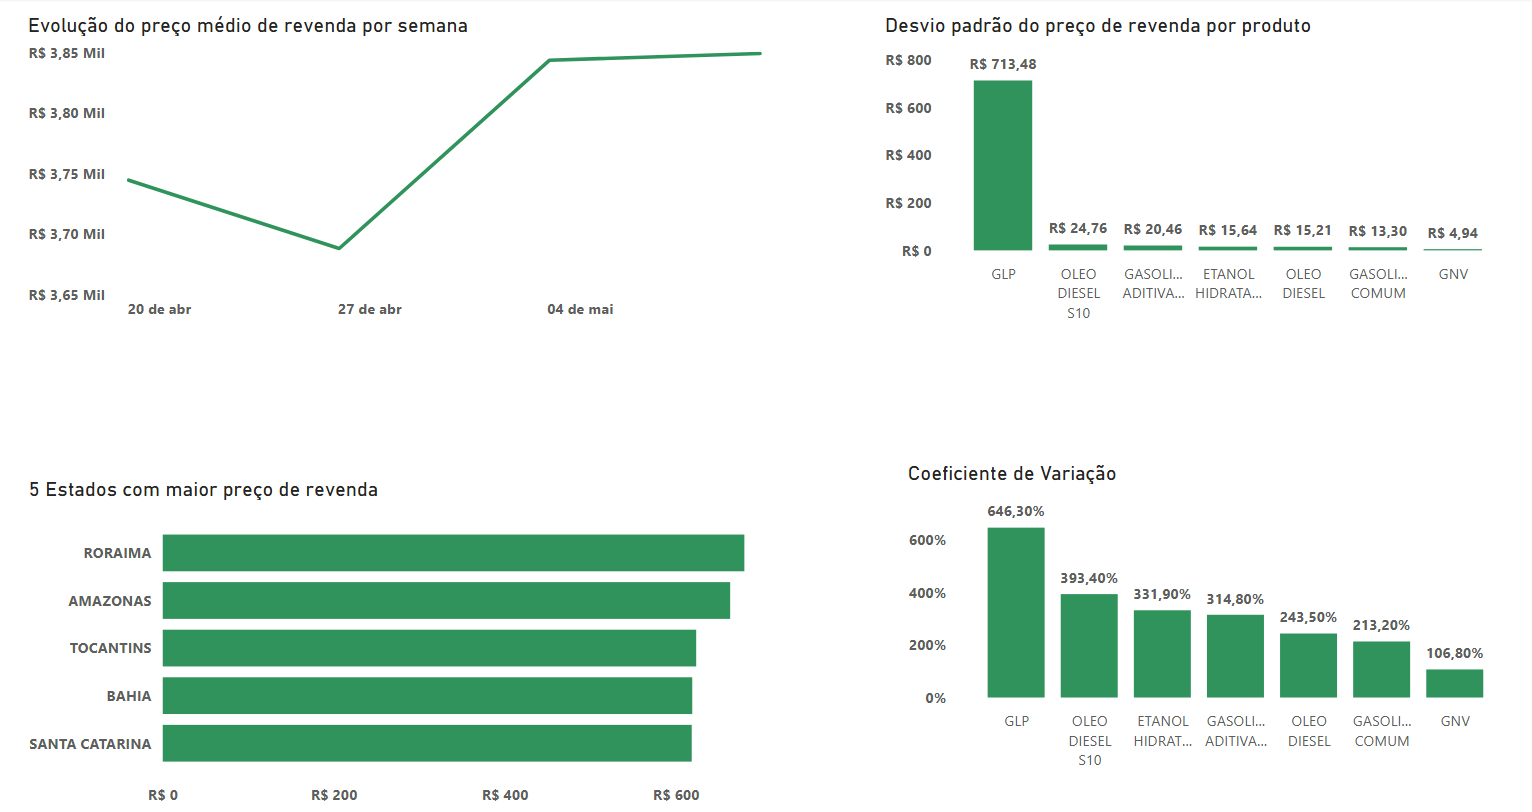

Layout of this report page (visuals, bound fields, positions):
{"tool":"powerbi","page":{"name":"Página 1","canvas":[1280,720],"ordinal":0},"visuals":[{"type":"lineChart","title":"Evolução do preço médio de revenda por semana","fields":{"Y":["Sum(Consulta1.preco_medio_revenda)"],"Category":["Consulta1.data_final"]},"box":[20.7,31.6,648.2,264.7],"z":0},{"type":"barChart","title":"5 Estados com maior preço de revenda","fields":{"Category":["Consulta1.estado"],"Y":["Sum(Consulta1.preco_medio_revenda)"]},"box":[20.7,418.3,640.5,283.2],"z":1},{"type":"clusteredColumnChart","title":"Desvio padrão do preço de revenda por produto","fields":{"Category":["Consulta1.produto"],"Y":["Sum(Consulta1.desvio_padrao_revenda)"]},"box":[735.3,31.6,533.8,264.7],"z":2},{"type":"clusteredColumnChart","title":"Coeficiente de Variação","fields":{"Category":["Consulta1.produto"],"Y":["Sum(Consulta1.coef_de_variacao_revenda)"]},"box":[754,405,515,264],"z":3}]}

Visuals, with their boxes on the page's 1280x720 design canvas (x1, y1, x2, y2). These are canvas units, not pixel positions in the 1532x812 screenshot, which may show the page scaled, cropped or inside an application window:
"Evolução do preço médio de revenda por semana" lineChart: 21,32,669,296
"5 Estados com maior preço de revenda" barChart: 21,418,661,702
"Desvio padrão do preço de revenda por produto" clusteredColumnChart: 735,32,1269,296
"Coeficiente de Variação" clusteredColumnChart: 754,405,1269,669
